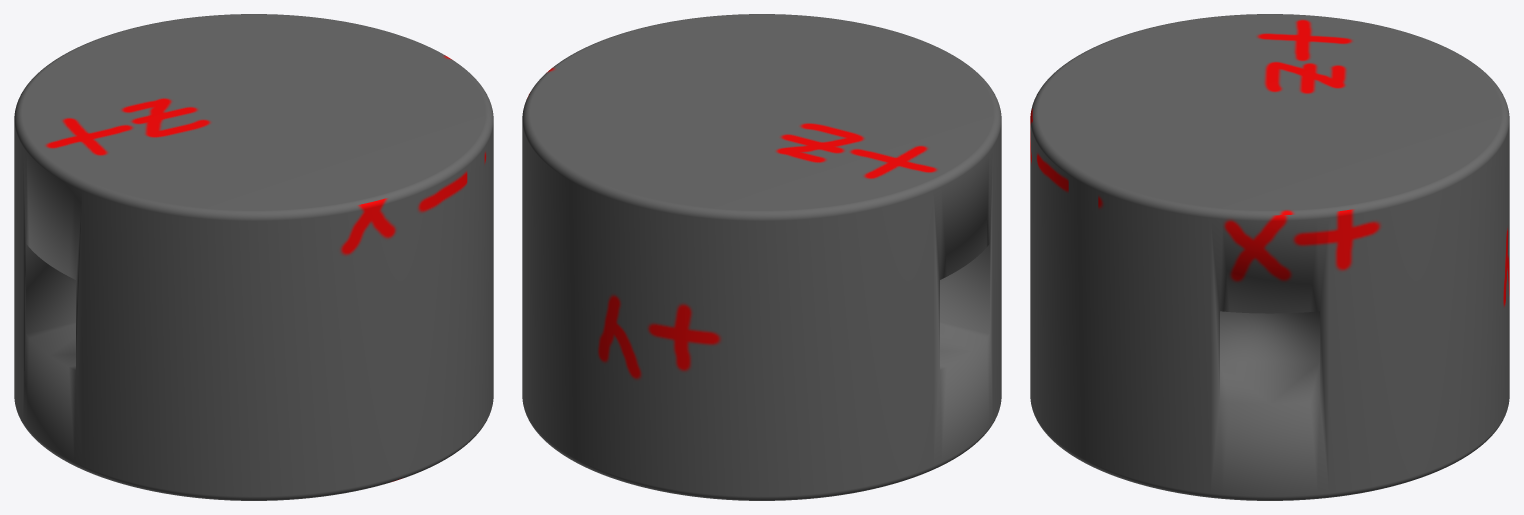
Rendered from Dummy2.fbx.
3 renders of one model, left to right at view 1: azimuth 30°, elevation 25°; view 2: azimuth 150°, elevation 25°; view 3: azimuth 270°, elevation 25°, orthographic.
Parts seen in each view (by area): view 1: obj_000004; view 2: obj_000004; view 3: obj_000004.
Boxes of the visible parts, x1,y1,x2,y2 form: obj_000004: (14, 14, 493, 500); obj_000004: (522, 14, 1001, 500); obj_000004: (1030, 14, 1509, 500).
Bounding box in the file's own units: 6000 × 4000 × 5998.
